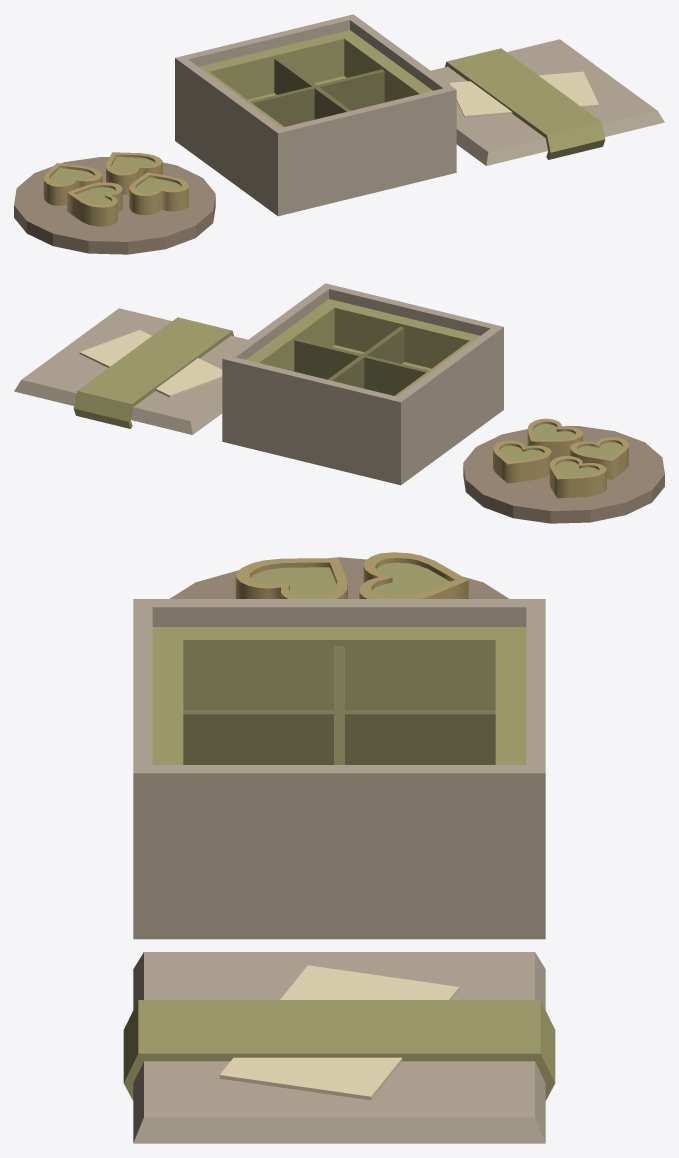
The model's file is choco_6.fbx.
3 renders of one model, top to bottom at view 1: azimuth 30°, elevation 25°; view 2: azimuth 150°, elevation 25°; view 3: azimuth 270°, elevation 25°, orthographic. The views are drawn at different scales.
Visible parts, largest first — view 1: polySurface517, polySurface514, polySurface524, polySurface525, polySurface519, polySurface526, polySurface512, polySurface513, polySurface516, polySurface523, polySurface515; view 2: polySurface517, polySurface514, polySurface524, polySurface525, polySurface519, polySurface526, polySurface515, polySurface516, polySurface523, polySurface513, polySurface512; view 3: polySurface517, polySurface524, polySurface525, polySurface523, polySurface526, polySurface513, polySurface516, polySurface514, polySurface519.
Part boxes in pixels (left/top/right/bottom): polySurface517: left=175, top=14, right=456, bottom=216; polySurface514: left=14, top=157, right=215, bottom=254; polySurface524: left=431, top=39, right=664, bottom=165; polySurface525: left=445, top=48, right=605, bottom=159; polySurface519: left=250, top=69, right=384, bottom=126; polySurface526: left=449, top=71, right=598, bottom=117; polySurface512: left=129, top=172, right=188, bottom=215; polySurface513: left=67, top=182, right=122, bottom=226; polySurface516: left=43, top=163, right=102, bottom=205; polySurface523: left=274, top=58, right=350, bottom=119; polySurface515: left=106, top=152, right=162, bottom=194; polySurface517: left=222, top=283, right=503, bottom=485; polySurface514: left=463, top=426, right=664, bottom=523; polySurface524: left=14, top=308, right=247, bottom=434; polySurface525: left=73, top=317, right=233, bottom=428; polySurface519: left=294, top=338, right=428, bottom=395; polySurface526: left=79, top=330, right=222, bottom=397; polySurface515: left=493, top=440, right=551, bottom=483; polySurface516: left=549, top=456, right=606, bottom=498; polySurface523: left=328, top=327, right=404, bottom=388; polySurface513: left=570, top=437, right=628, bottom=479; polySurface512: left=527, top=418, right=582, bottom=460; polySurface517: left=133, top=599, right=545, bottom=939; polySurface524: left=133, top=952, right=545, bottom=1143; polySurface525: left=123, top=1000, right=555, bottom=1100; polySurface523: left=183, top=710, right=495, bottom=764; polySurface526: left=219, top=965, right=459, bottom=1100; polySurface513: left=235, top=558, right=347, bottom=598; polySurface516: left=359, top=552, right=468, bottom=598; polySurface514: left=170, top=557, right=508, bottom=598; polySurface519: left=334, top=646, right=344, bottom=764.
Size of the model in its own units: 1.57 by 0.2376 by 0.5011.
